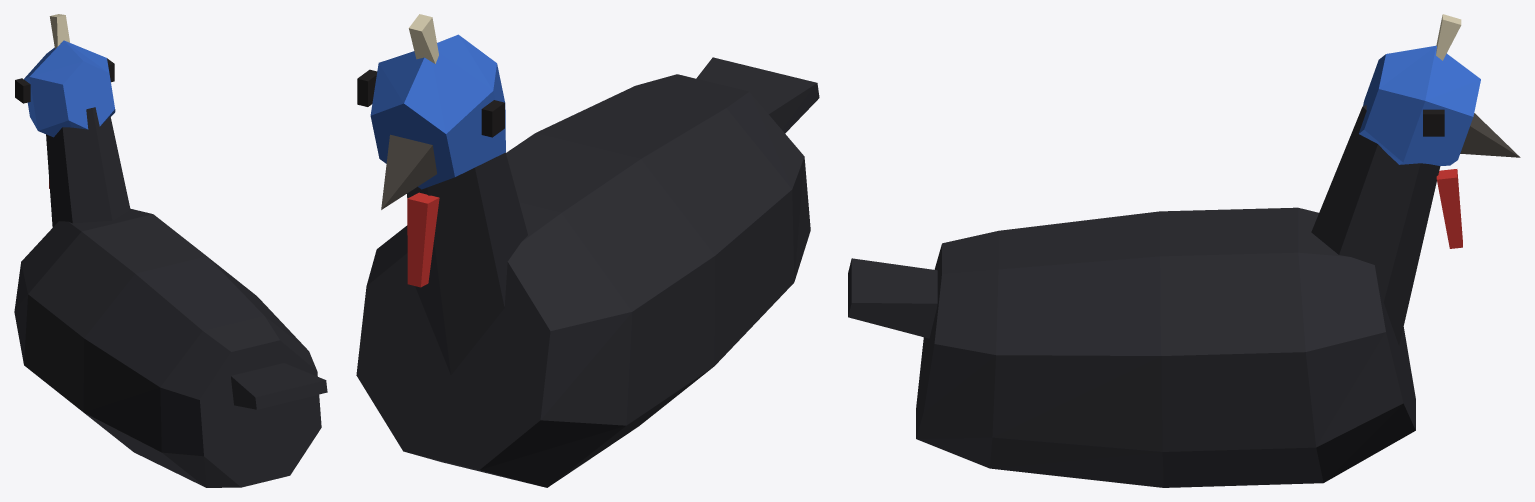
Rendered from animal_cassowary.obj.
The picture shows the model from 3 angles, left to right: view 1: azimuth 30°, elevation 25°; view 2: azimuth 150°, elevation 25°; view 3: azimuth 270°, elevation 25°; orthographic projection. The views are drawn at different scales.
Parts seen in each view (by area): view 1: animal_cassowary; view 2: animal_cassowary; view 3: animal_cassowary.
Boxes of the visible parts, x1=… form: animal_cassowary: x1=14, y1=14, x2=327, y2=487; animal_cassowary: x1=356, y1=14, x2=819, y2=487; animal_cassowary: x1=848, y1=14, x2=1520, y2=487.
Size of the model in its own units: 0.3802 by 0.7314 by 0.9939.
